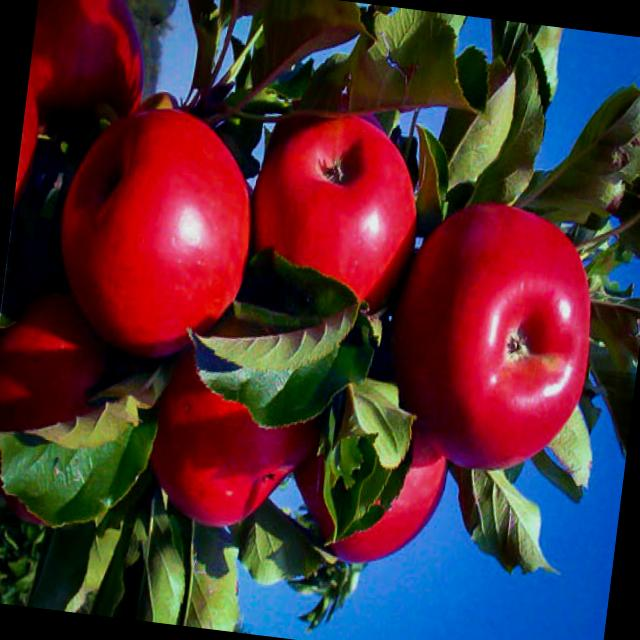alpple: (376, 184, 610, 489), (35, 94, 265, 360), (244, 99, 426, 328)
